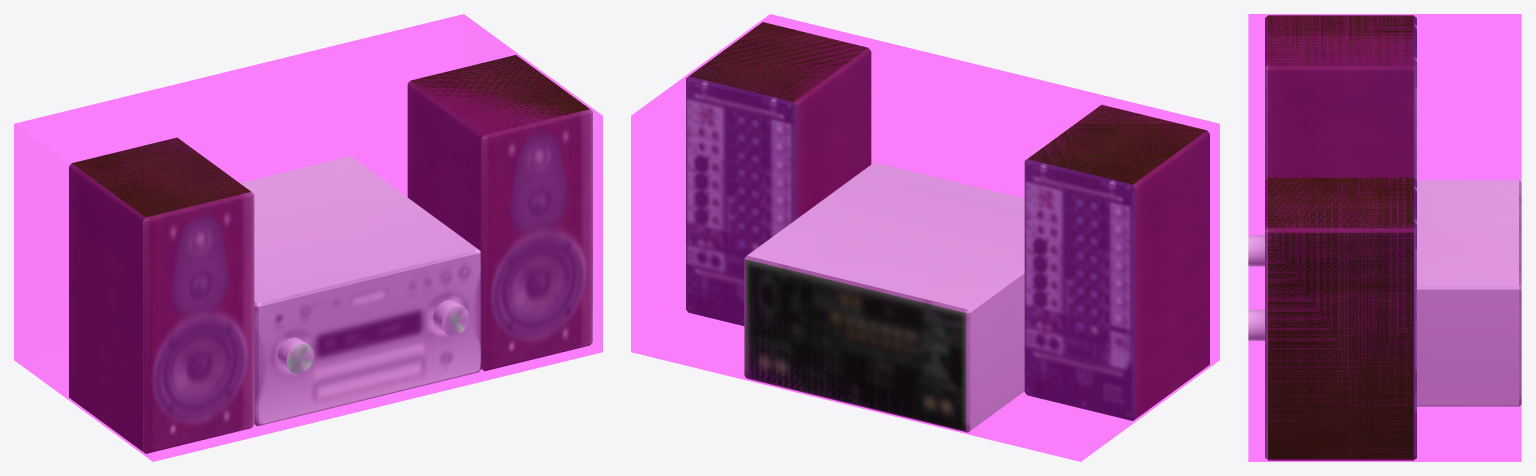
The model's file is CDplayer.fbx.
3 views of the same model, side by side, from view 1: azimuth 30°, elevation 25°; view 2: azimuth 150°, elevation 25°; view 3: azimuth 270°, elevation 25° (orthographic).
Parts seen in each view (by area): view 1: CDplayer_boundingbox, CDplayer; view 2: CDplayer_boundingbox, CDplayer; view 3: CDplayer, CDplayer_boundingbox.
Part boxes in pixels (left/top/right/bottom): CDplayer_boundingbox: left=14, top=14, right=602, bottom=461; CDplayer: left=69, top=55, right=592, bottom=453; CDplayer_boundingbox: left=631, top=14, right=1219, bottom=461; CDplayer: left=686, top=22, right=1209, bottom=432; CDplayer: left=1248, top=15, right=1521, bottom=460; CDplayer_boundingbox: left=1248, top=14, right=1521, bottom=461.
Bounding box in the file's own units: 59.73 × 30 × 31.98.
5 materials, 4 textured.
